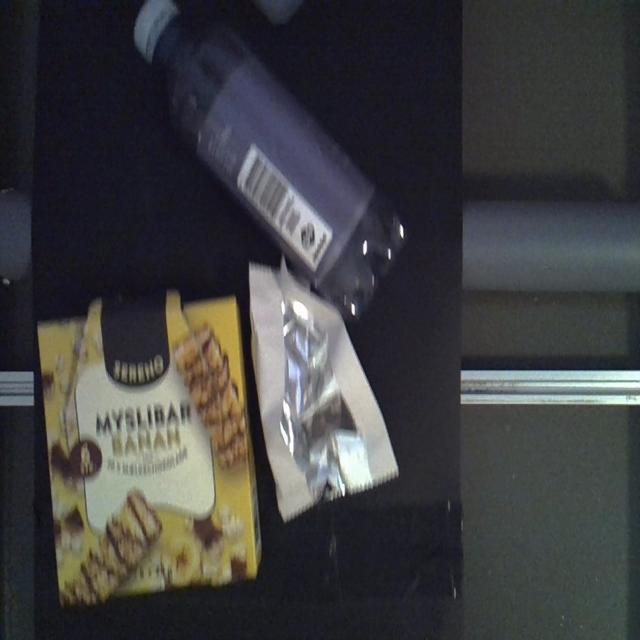bottle-plastic: (130, 1, 410, 322)
carton: (36, 286, 264, 610)
packaging-soft-plastic: (244, 258, 403, 520)
